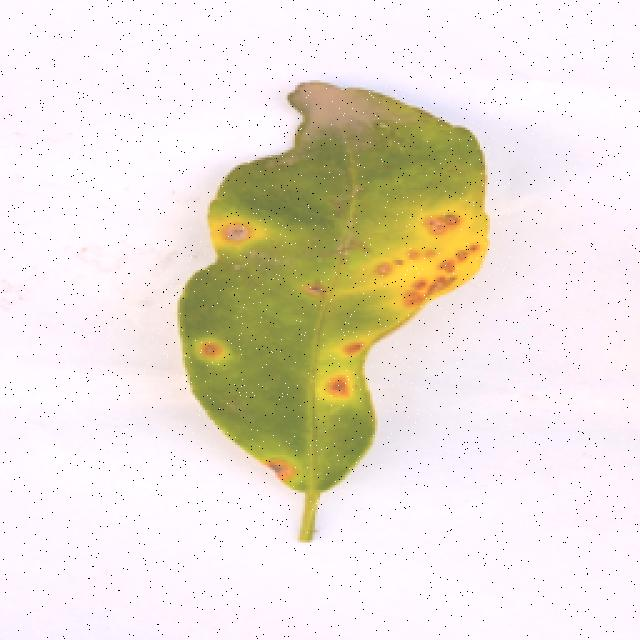canker: (169, 142, 488, 500)
